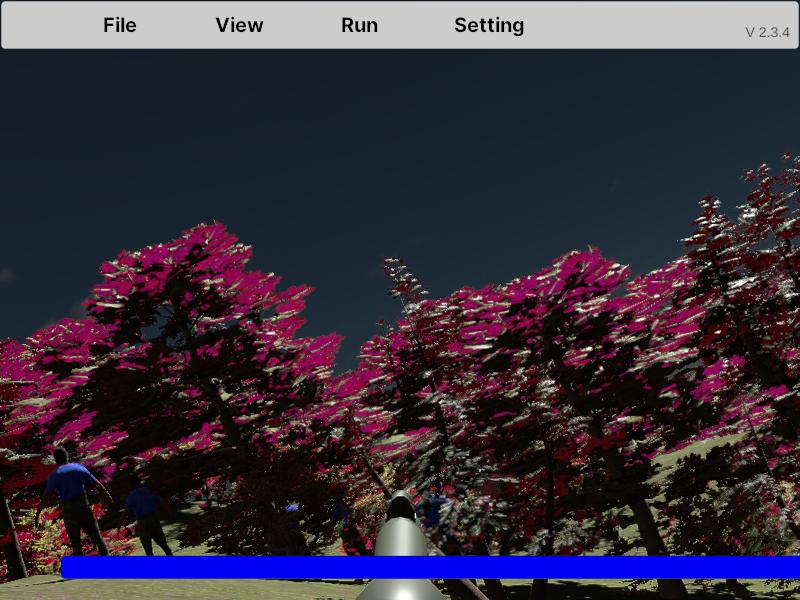Human: (37, 444, 115, 574), (0, 433, 27, 600)
Tank: (0, 368, 42, 462)
